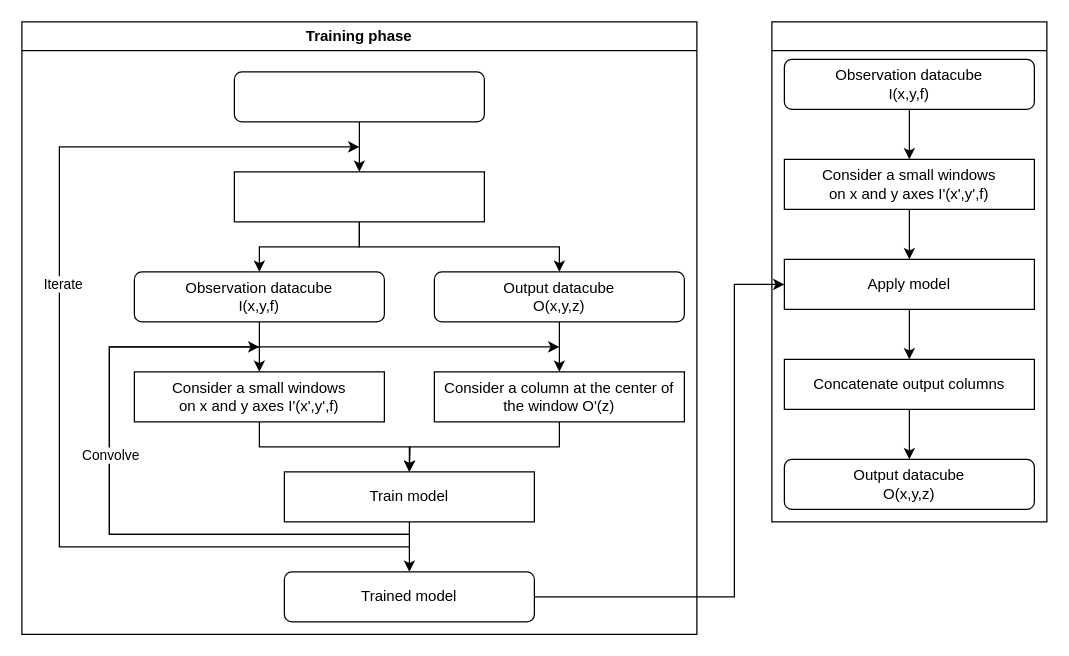
This 1069x656 diagram has some shape labels left out. Here are the shapes that lost their labels. From the top down, the centre of each, then its label:
the point at 358,96: Dataset
the point at 358,196: Pick one vector
the point at 909,271: Application
